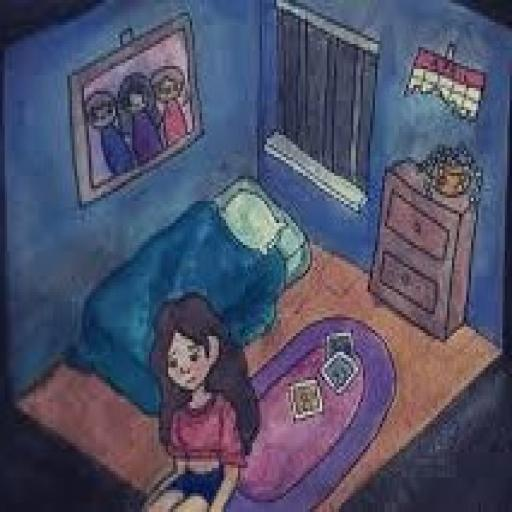person: (139, 282, 261, 508), (156, 45, 197, 157), (123, 56, 159, 166), (84, 86, 122, 190)
